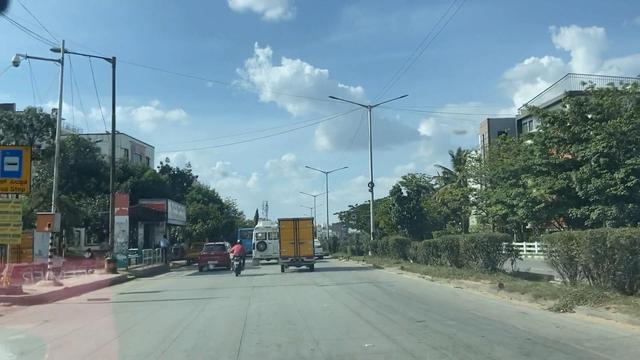HMV: (275, 215, 318, 275)
LMV: (199, 239, 233, 274), (231, 242, 251, 274)
